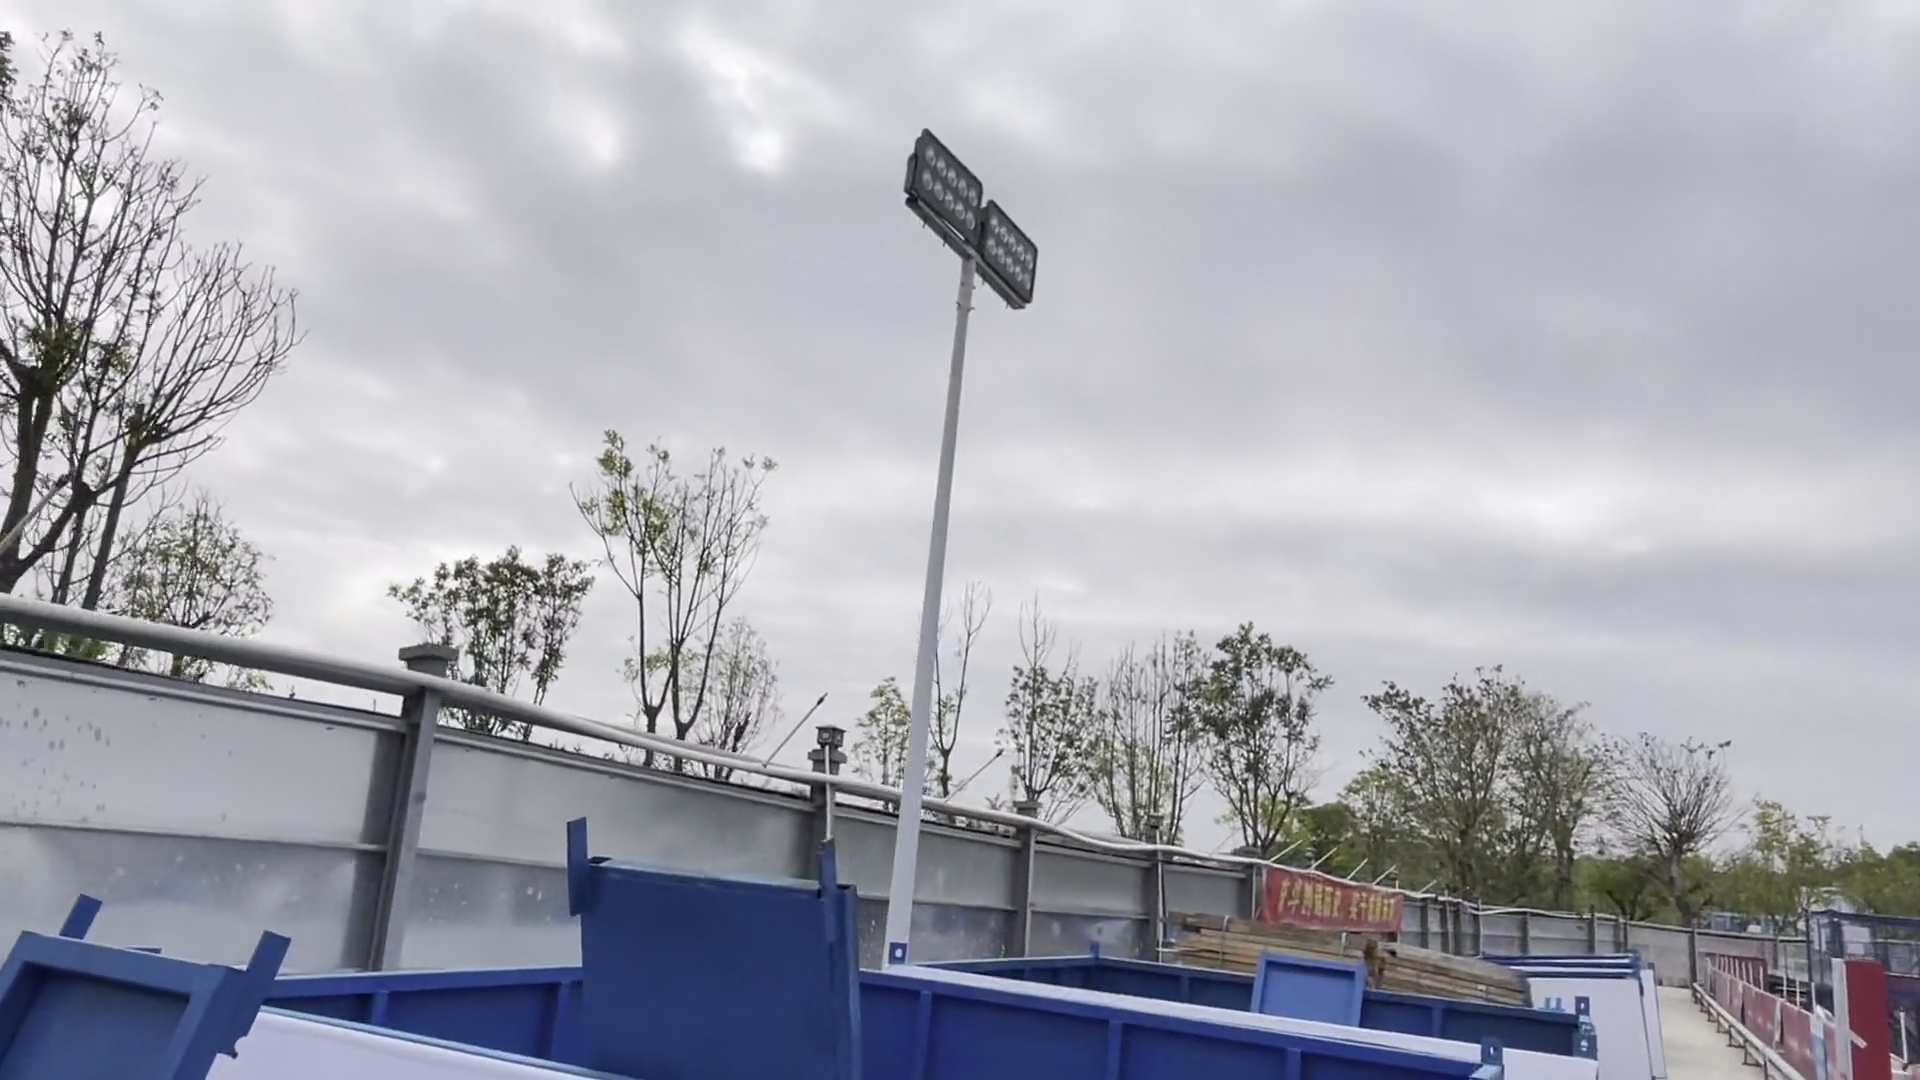slogan: (1241, 864, 1412, 944)
wood: (1175, 901, 1362, 981), (1364, 934, 1544, 1013)
